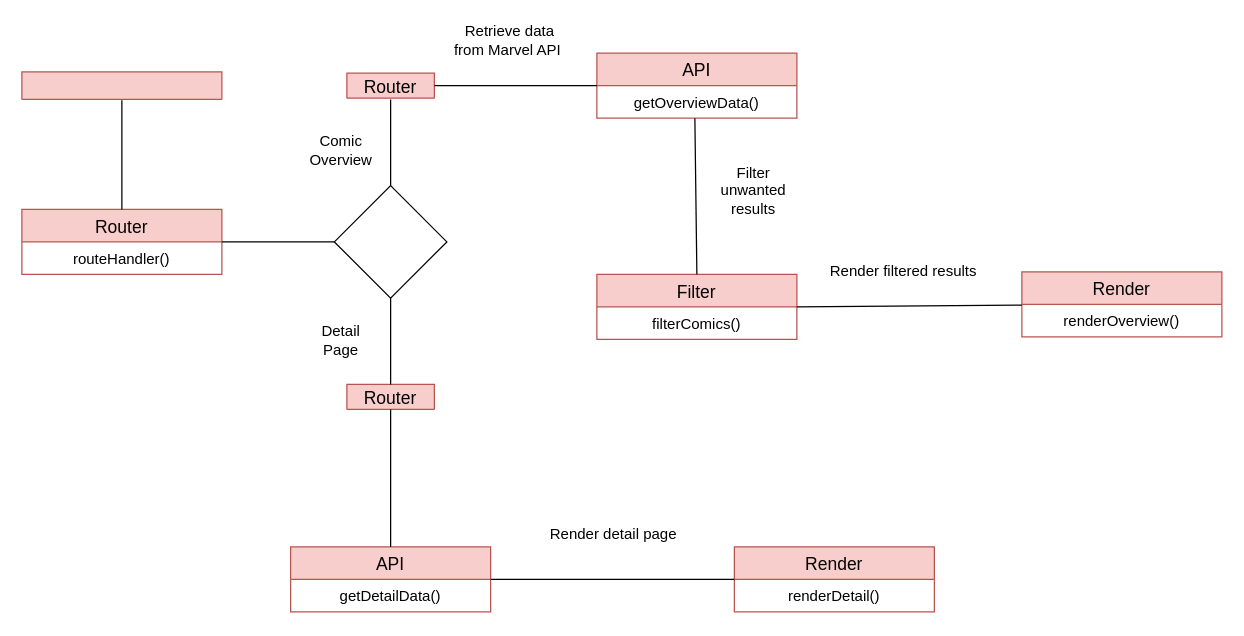
This 1244x636 diagram has some shape labels left out. Each missing label, with the centre of its shape:
App: the point at 121,85
Page request: the point at 390,241
